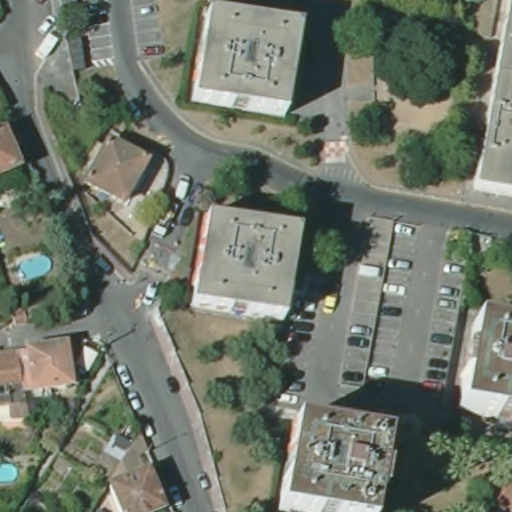pool: (16, 251, 55, 282), (1, 462, 20, 486)
